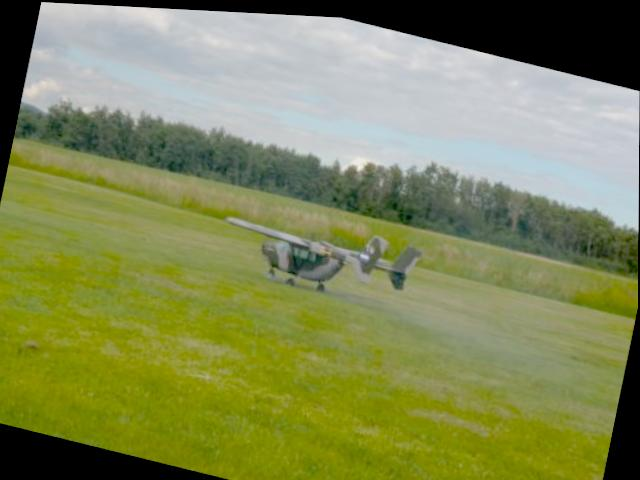uav: (214, 194, 427, 310)
